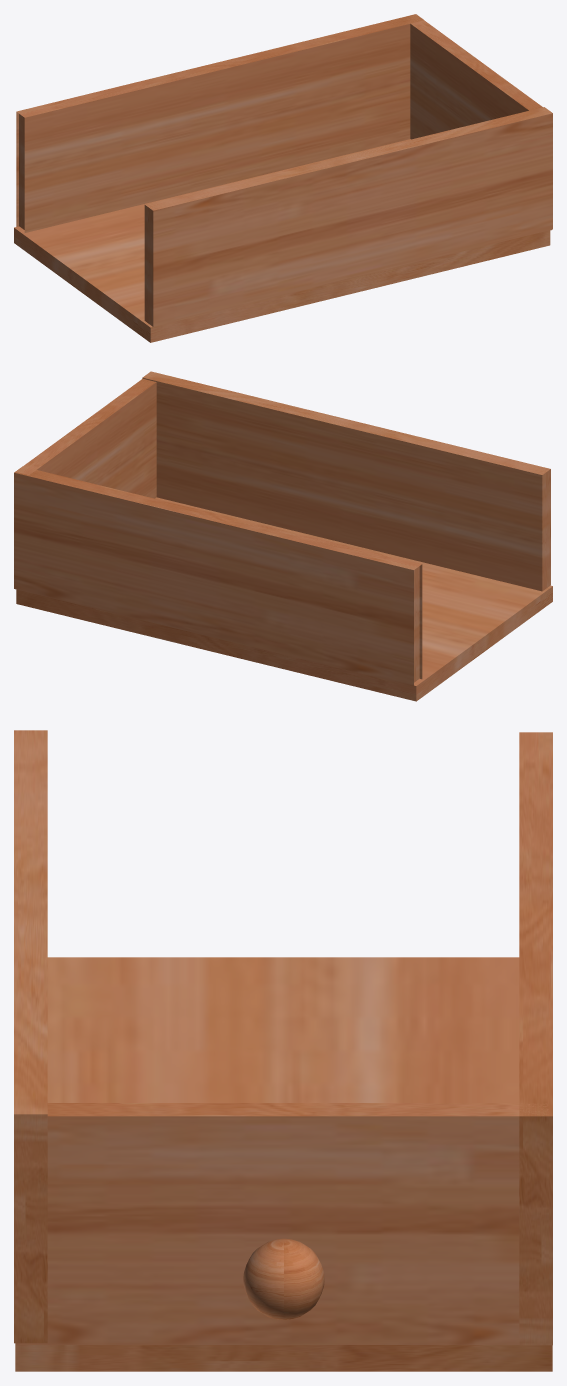
The model's file is drawer.glb.
3 views of the same model, one above another, from view 1: azimuth 30°, elevation 25°; view 2: azimuth 150°, elevation 25°; view 3: azimuth 270°, elevation 25° (orthographic). The views are drawn at different scales.
Visible parts, largest first — view 1: Cube.014, Cube.004, Cube.013, Cube.023; view 2: Cube.004, Cube.014, Cube.013, Cube.023; view 3: Cube.023, Cube.013, Cube.004, Cube.014, Cube.001.
Part boxes in pixels (x1,y1,x2,y2): Cube.014: (144, 107, 552, 326); Cube.004: (16, 14, 423, 232); Cube.013: (14, 139, 550, 342); Cube.023: (404, 15, 551, 230); Cube.004: (14, 466, 422, 686); Cube.014: (142, 371, 550, 591); Cube.013: (16, 497, 552, 701); Cube.023: (15, 378, 156, 498); Cube.023: (16, 1103, 548, 1344); Cube.013: (15, 957, 552, 1371); Cube.004: (519, 732, 552, 1345); Cube.014: (14, 730, 47, 1343); Cube.001: (243, 1238, 324, 1319).
Bounding box in the file's own units: 4.61 × 1.35 × 2.55.
Materials: 1 (1 with a texture image).
